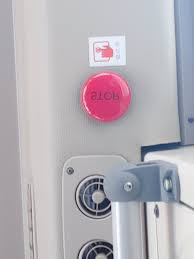bell: (77, 69, 135, 125)
